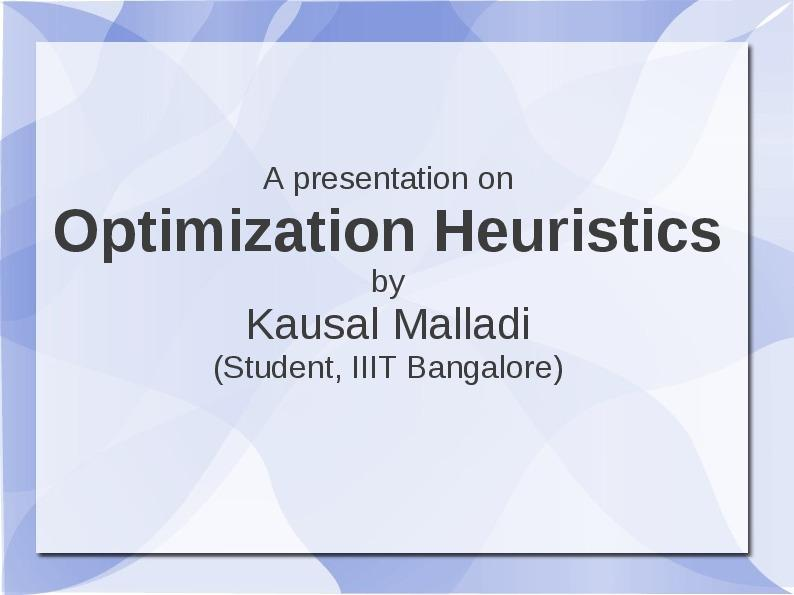title: (59, 112, 749, 282)
